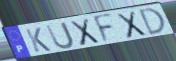D: (138, 7, 169, 37)
F: (92, 12, 115, 46)
K: (24, 26, 53, 53)
U: (45, 22, 76, 51)
X: (68, 17, 101, 48), (115, 10, 148, 40)
